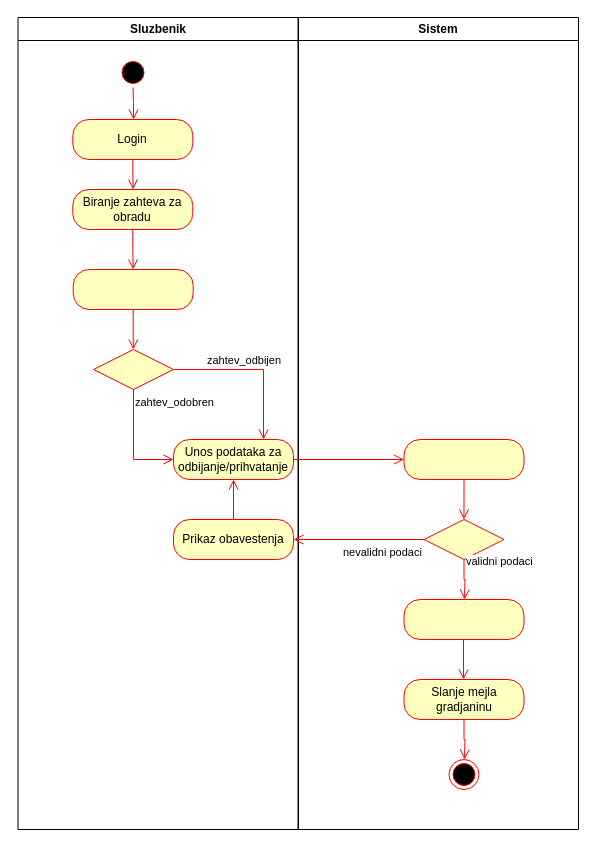
This 596x847 diagram has some shape labels left out. Here are the shapes that lost their labels. From the top down, the box of each, then its label:
(72, 268, 193, 310): Analiza unetih podataka
(403, 438, 524, 480): Provera ispravnosti unetih podataka
(403, 598, 524, 640): Cuvanje resenja
